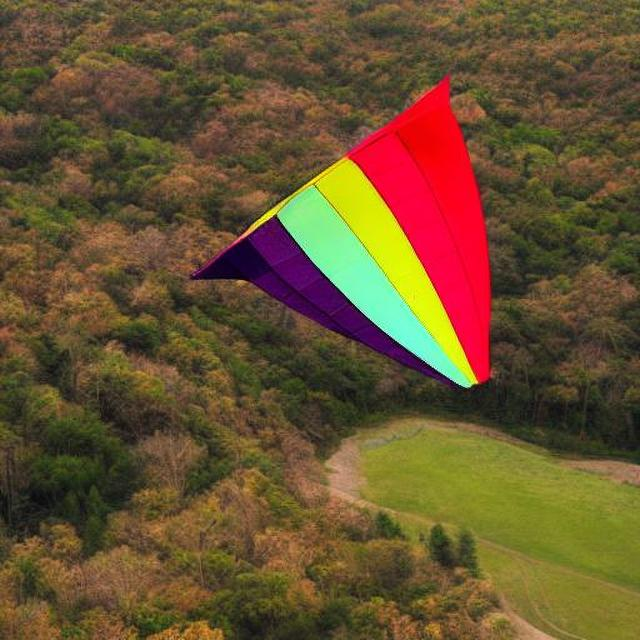floating object: (205, 73, 493, 381)
